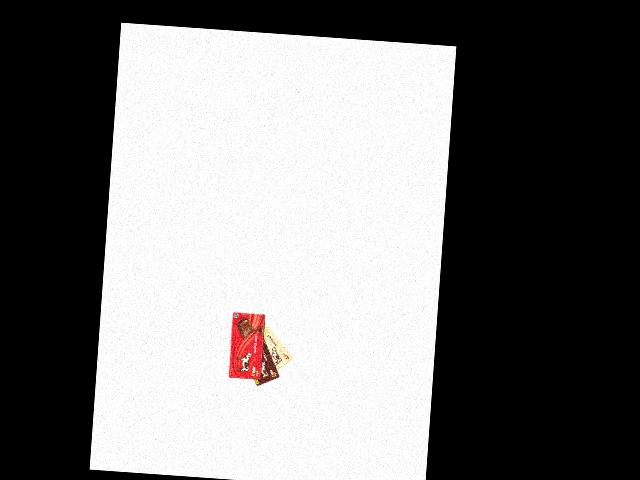chocolate: (254, 316, 296, 379)
